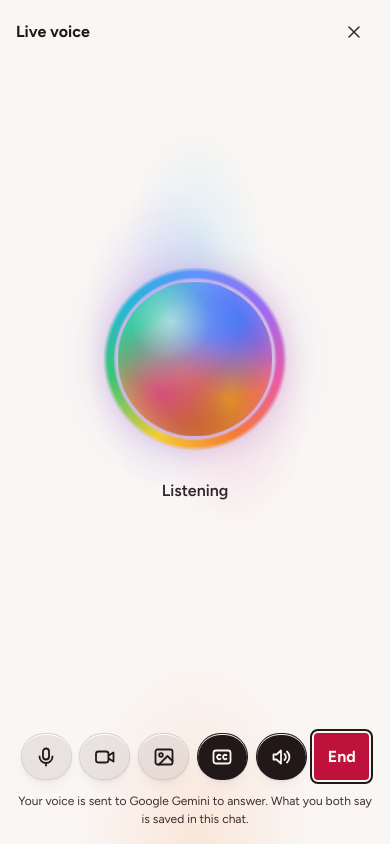
it: Live voice: the loudspeaker button › shows in the app with the plugin, starts on the loudspeaker, and remembers a switch to the earpiece
Click the button named "Loudspeaker": [281, 757] box [256, 733, 306, 780]
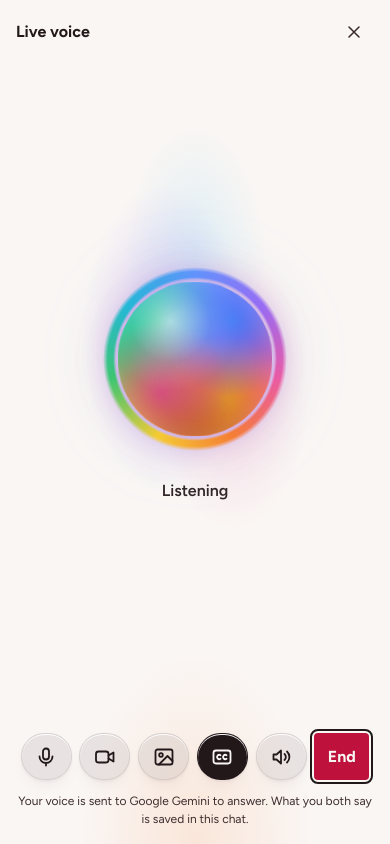
Expected: the button named "Loudspeaker" is not pressed, [256, 733, 306, 780]
